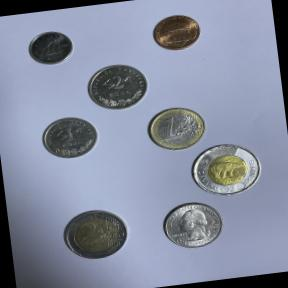1 Euro: (142, 102, 210, 155)
2 Euro: (57, 204, 134, 266)
Canda-10cent-: (24, 26, 78, 70)
Canda-2Dollar-: (184, 140, 268, 202)
Croatia-2Kune-: (82, 58, 154, 116)
US-1cent-: (147, 8, 205, 57)
US-25cent-: (157, 198, 227, 255)
